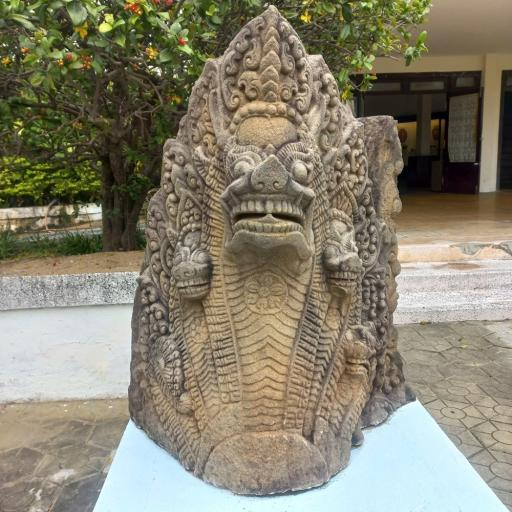ran: (100, 0, 434, 505)
